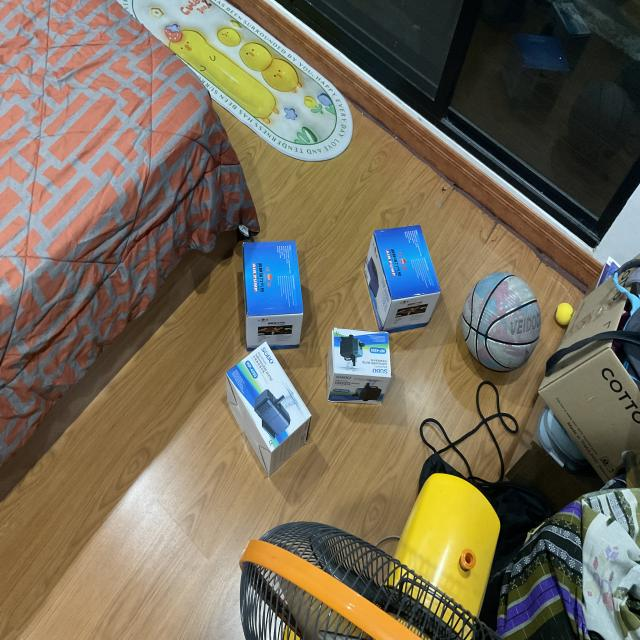SOBO_WP_4200: (217, 339, 312, 472), (324, 309, 401, 404)
YAMANO_LPP_20: (226, 232, 316, 356), (360, 219, 448, 340)
